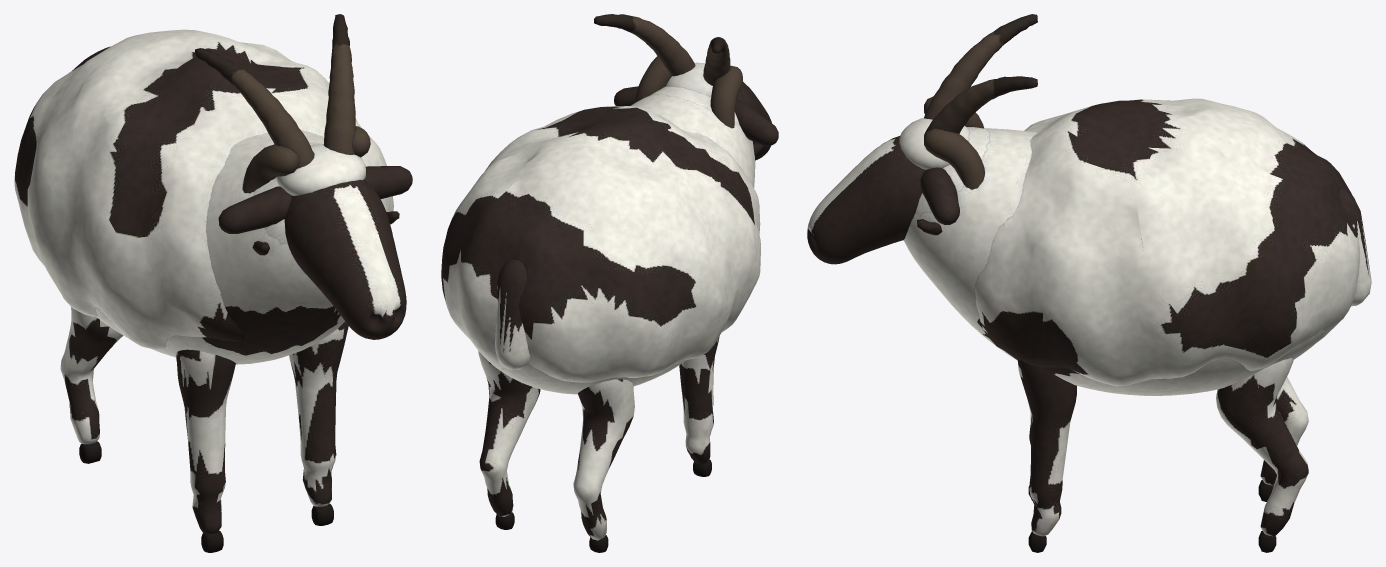
Rendered from animal_jacob_sheep.glb.
3 views of the same model, side by side, from view 1: azimuth 30°, elevation 25°; view 2: azimuth 150°, elevation 25°; view 3: azimuth 270°, elevation 25° (orthographic). The views are drawn at different scales.
Parts seen in each view (by area): view 1: animal_jacob_sheep, head, leg0, leg1, leg2; view 2: animal_jacob_sheep, head, leg2, leg3, leg0, tail; view 3: animal_jacob_sheep, head, leg3, leg1, leg2, tail.
Boxes of the visible parts, x1=… form: animal_jacob_sheep: x1=14, y1=29, x2=393, y2=364; head: x1=195, y1=14, x2=412, y2=339; leg0: x1=176, y1=349, x2=235, y2=552; leg1: x1=289, y1=321, x2=348, y2=525; leg2: x1=60, y1=306, x2=122, y2=463; animal_jacob_sheep: x1=441, y1=86, x2=760, y2=394; head: x1=594, y1=14, x2=778, y2=160; leg2: x1=573, y1=379, x2=634, y2=552; leg3: x1=478, y1=351, x2=540, y2=529; leg0: x1=679, y1=336, x2=719, y2=476; tail: x1=495, y1=259, x2=530, y2=369; animal_jacob_sheep: x1=903, y1=98, x2=1359, y2=395; head: x1=807, y1=14, x2=1037, y2=264; leg3: x1=1216, y1=358, x2=1308, y2=552; leg1: x1=1017, y1=360, x2=1076, y2=552; leg2: x1=1258, y1=376, x2=1308, y2=501; tail: x1=1339, y1=187, x2=1371, y2=306.
Size of the model in its own units: 0.3047 by 0.485 by 0.5169.
1 material, 1 textured.
